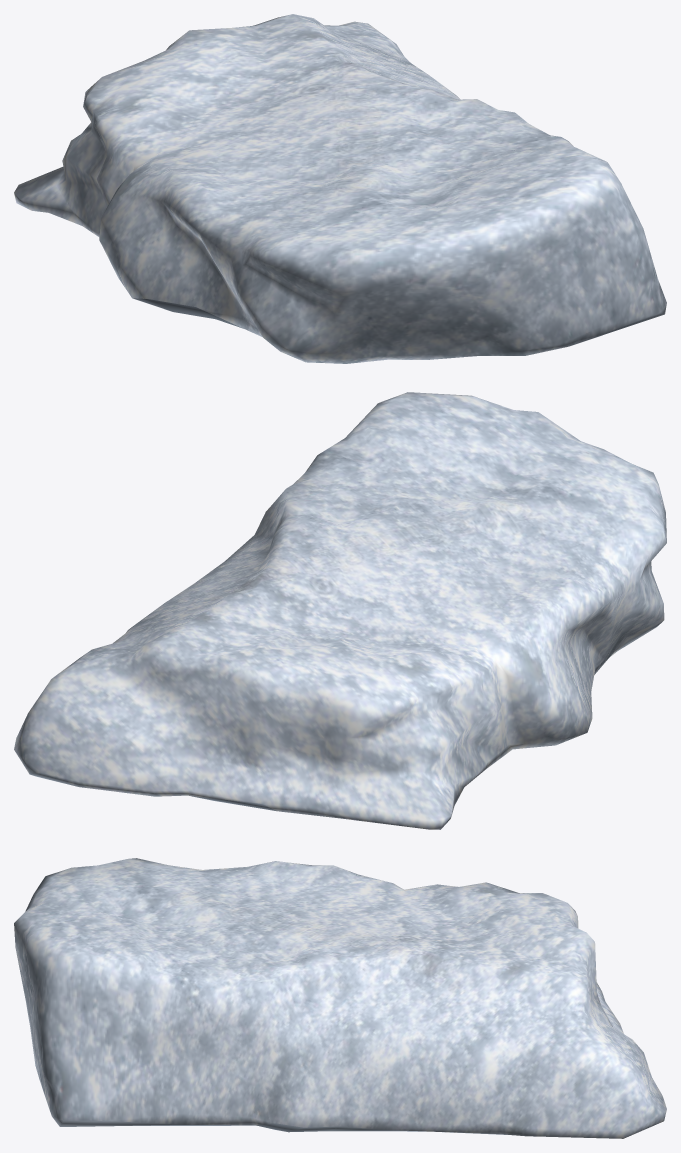
Rendered from roc2.obj.
3 renders of one model, top to bottom at view 1: azimuth 30°, elevation 25°; view 2: azimuth 150°, elevation 25°; view 3: azimuth 270°, elevation 25°, orthographic. The views are drawn at different scales.
Visible parts, largest first — view 1: Group6143; view 2: Group6143; view 3: Group6143.
Boxes of the visible parts, x1=… form: Group6143: x1=14, y1=14, x2=666, y2=363; Group6143: x1=14, y1=392, x2=666, y2=829; Group6143: x1=14, y1=858, x2=666, y2=1138.
Size of the model in its own units: 19.99 by 7.37 by 29.43.
Materials: 1 (1 with a texture image).
